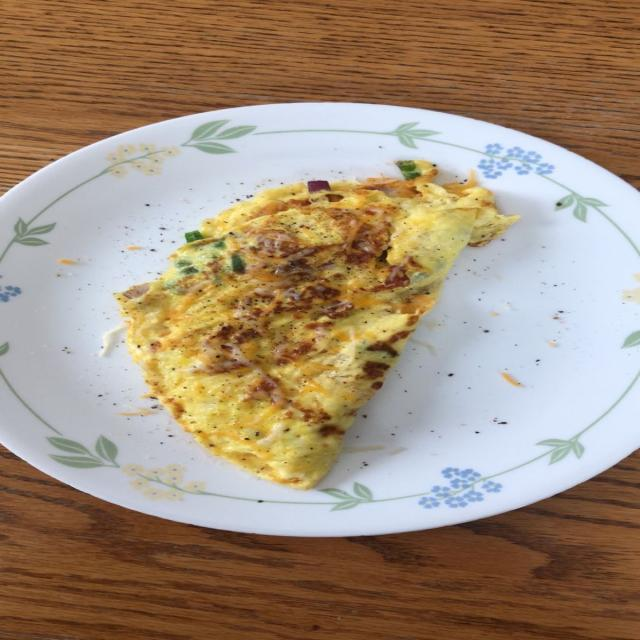omelette: (117, 162, 517, 489)
